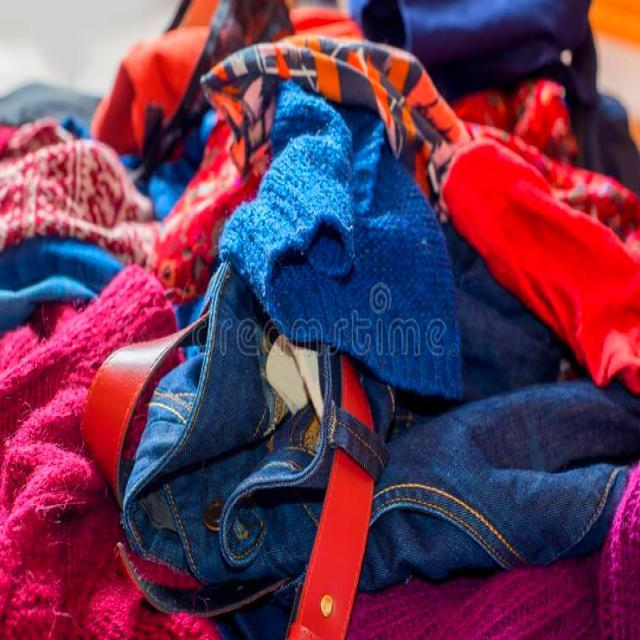clothes: (185, 122, 470, 576)
